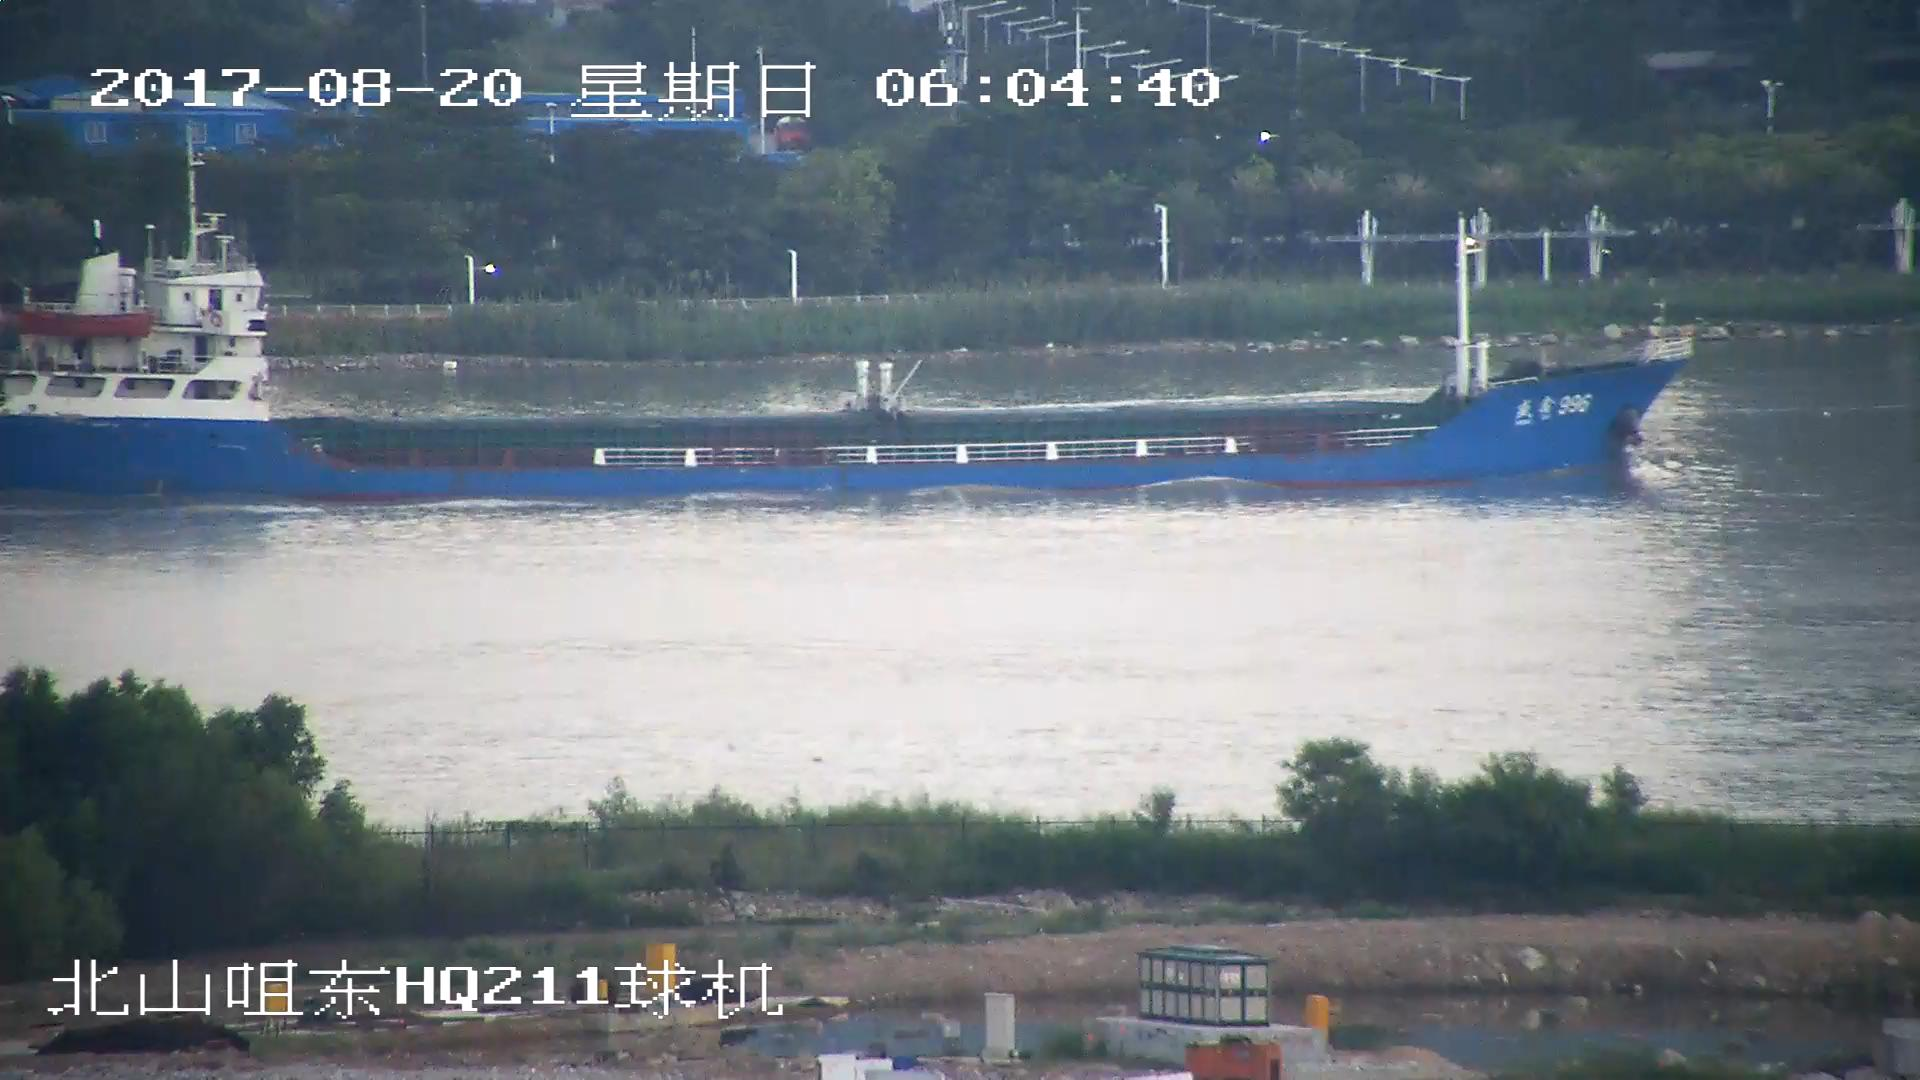general cargo ship: (1, 130, 1699, 492)
